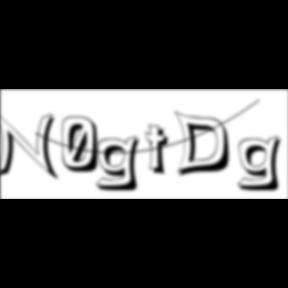0: (62, 115, 106, 174)
D: (174, 110, 236, 180)
N: (0, 109, 64, 183)
g: (95, 134, 147, 194), (238, 134, 288, 194)
t: (146, 124, 176, 179)
